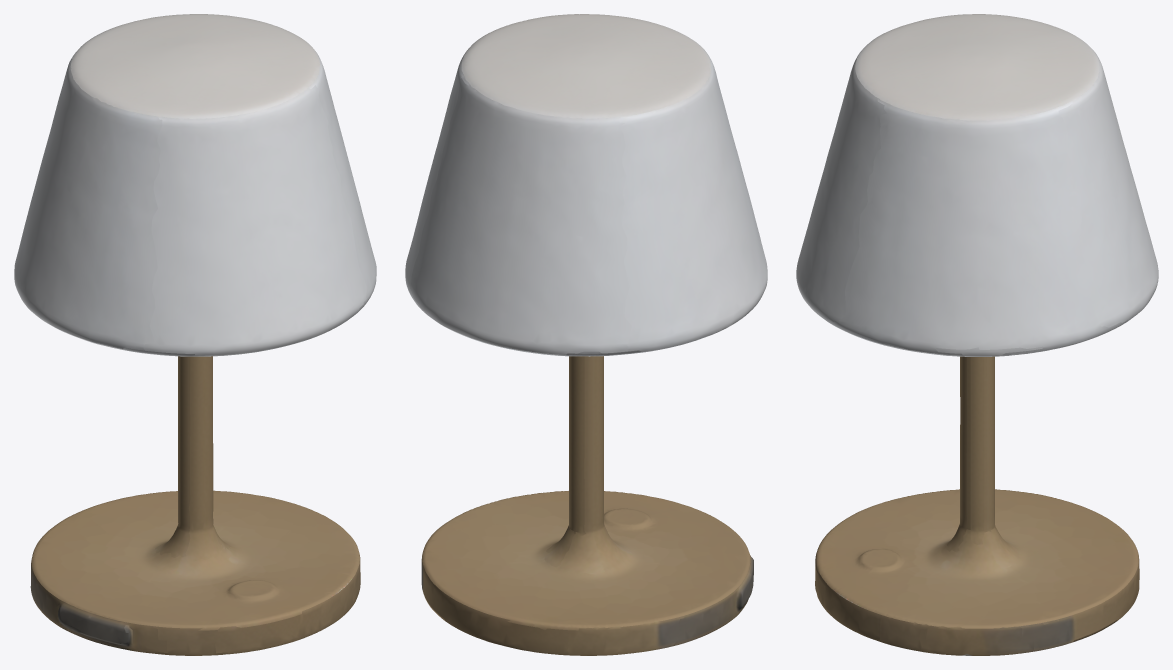
The model's file is lamp__lamp#3.glb.
3 views of the same model, side by side, from view 1: azimuth 30°, elevation 25°; view 2: azimuth 150°, elevation 25°; view 3: azimuth 270°, elevation 25° (orthographic).
Visible parts, largest first — view 1: tmphc9so9r6.ply; view 2: tmphc9so9r6.ply; view 3: tmphc9so9r6.ply.
Boxes of the visible parts, x1,y1,x2,y2 form: tmphc9so9r6.ply: (14,14,376,655); tmphc9so9r6.ply: (405,14,767,655); tmphc9so9r6.ply: (796,14,1158,655).
Bounding box in the file's own units: 1.23 × 1.99 × 1.23.
1 material, 1 textured.
